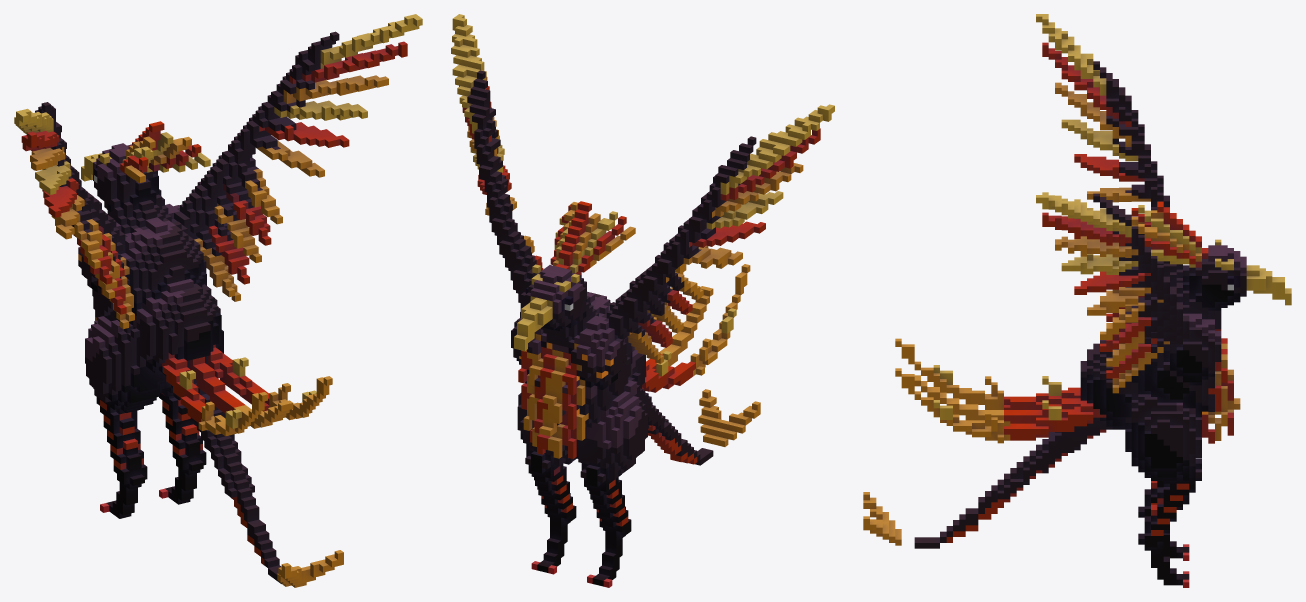
The model's file is Zharbird.glb.
3 renders of one model, left to right at view 1: azimuth 30°, elevation 25°; view 2: azimuth 150°, elevation 25°; view 3: azimuth 270°, elevation 25°, orthographic. The views are drawn at different scales.
Visible parts, largest first — view 1: Body__Tex, WingR2__Tex, WingR1__Tex, Head__Tex, LegL1__Tex, WingL2__Tex, WingL1__Tex, LegL2__Tex, LegR2__Tex, Tail3__Tex, Tail5__Tex, Tail2__Tex (+11 smaller); view 2: Body__Tex, WingL2__Tex, Head__Tex, WingR2__Tex, WingL1__Tex, LegL1__Tex, LegL2__Tex, LegR2__Tex, Tail5__Tex, WingR1__Tex, LegL3__Tex, LegR3__Tex (+9 smaller); view 3: Body__Tex, WingL2__Tex, WingR2__Tex, Head__Tex, LegR1__Tex, WingR1__Tex, LegR2__Tex, Tail2__Tex, Tail5__Tex, PlumeC2__Tex, Tail3__Tex, PlumeC3__Tex (+10 smaller).
Part boxes in pixels (box(x1,y1,x2,y2)): Body__Tex: box(78, 204, 221, 375); WingR2__Tex: box(228, 14, 422, 177); WingR1__Tex: box(171, 151, 282, 301); Head__Tex: box(81, 121, 210, 233); LegL1__Tex: box(85, 316, 166, 412); WingL2__Tex: box(14, 102, 85, 239); WingL1__Tex: box(71, 190, 134, 329); LegL2__Tex: box(96, 397, 147, 485); LegR2__Tex: box(159, 393, 206, 471); Tail3__Tex: box(218, 461, 259, 527); Tail5__Tex: box(268, 550, 343, 587); Tail2__Tex: box(187, 394, 241, 469); Body__Tex: box(511, 291, 645, 458); WingL2__Tex: box(652, 104, 834, 279); Head__Tex: box(514, 201, 635, 350); WingR2__Tex: box(451, 14, 517, 240); WingL1__Tex: box(601, 266, 703, 363); LegL1__Tex: box(576, 377, 647, 482); LegL2__Tex: box(584, 462, 631, 536); LegR2__Tex: box(528, 448, 576, 523); Tail5__Tex: box(695, 389, 760, 465); WingR1__Tex: box(497, 229, 543, 310); LegL3__Tex: box(587, 534, 625, 587); LegR3__Tex: box(531, 520, 570, 574); Body__Tex: box(1080, 313, 1240, 443); WingL2__Tex: box(1036, 14, 1169, 210); WingR2__Tex: box(1036, 192, 1169, 315); Head__Tex: box(1131, 201, 1291, 319); LegR1__Tex: box(1125, 394, 1201, 483); WingR1__Tex: box(1100, 288, 1189, 393); LegR2__Tex: box(1138, 458, 1201, 547); Tail2__Tex: box(1016, 432, 1080, 481); Tail5__Tex: box(863, 492, 939, 548); PlumeC2__Tex: box(985, 411, 1067, 440); Tail3__Tex: box(978, 468, 1029, 519); PlumeC3__Tex: box(933, 400, 1010, 443).
Bounding box in the file's own units: 6.8 × 8 × 6.7.
